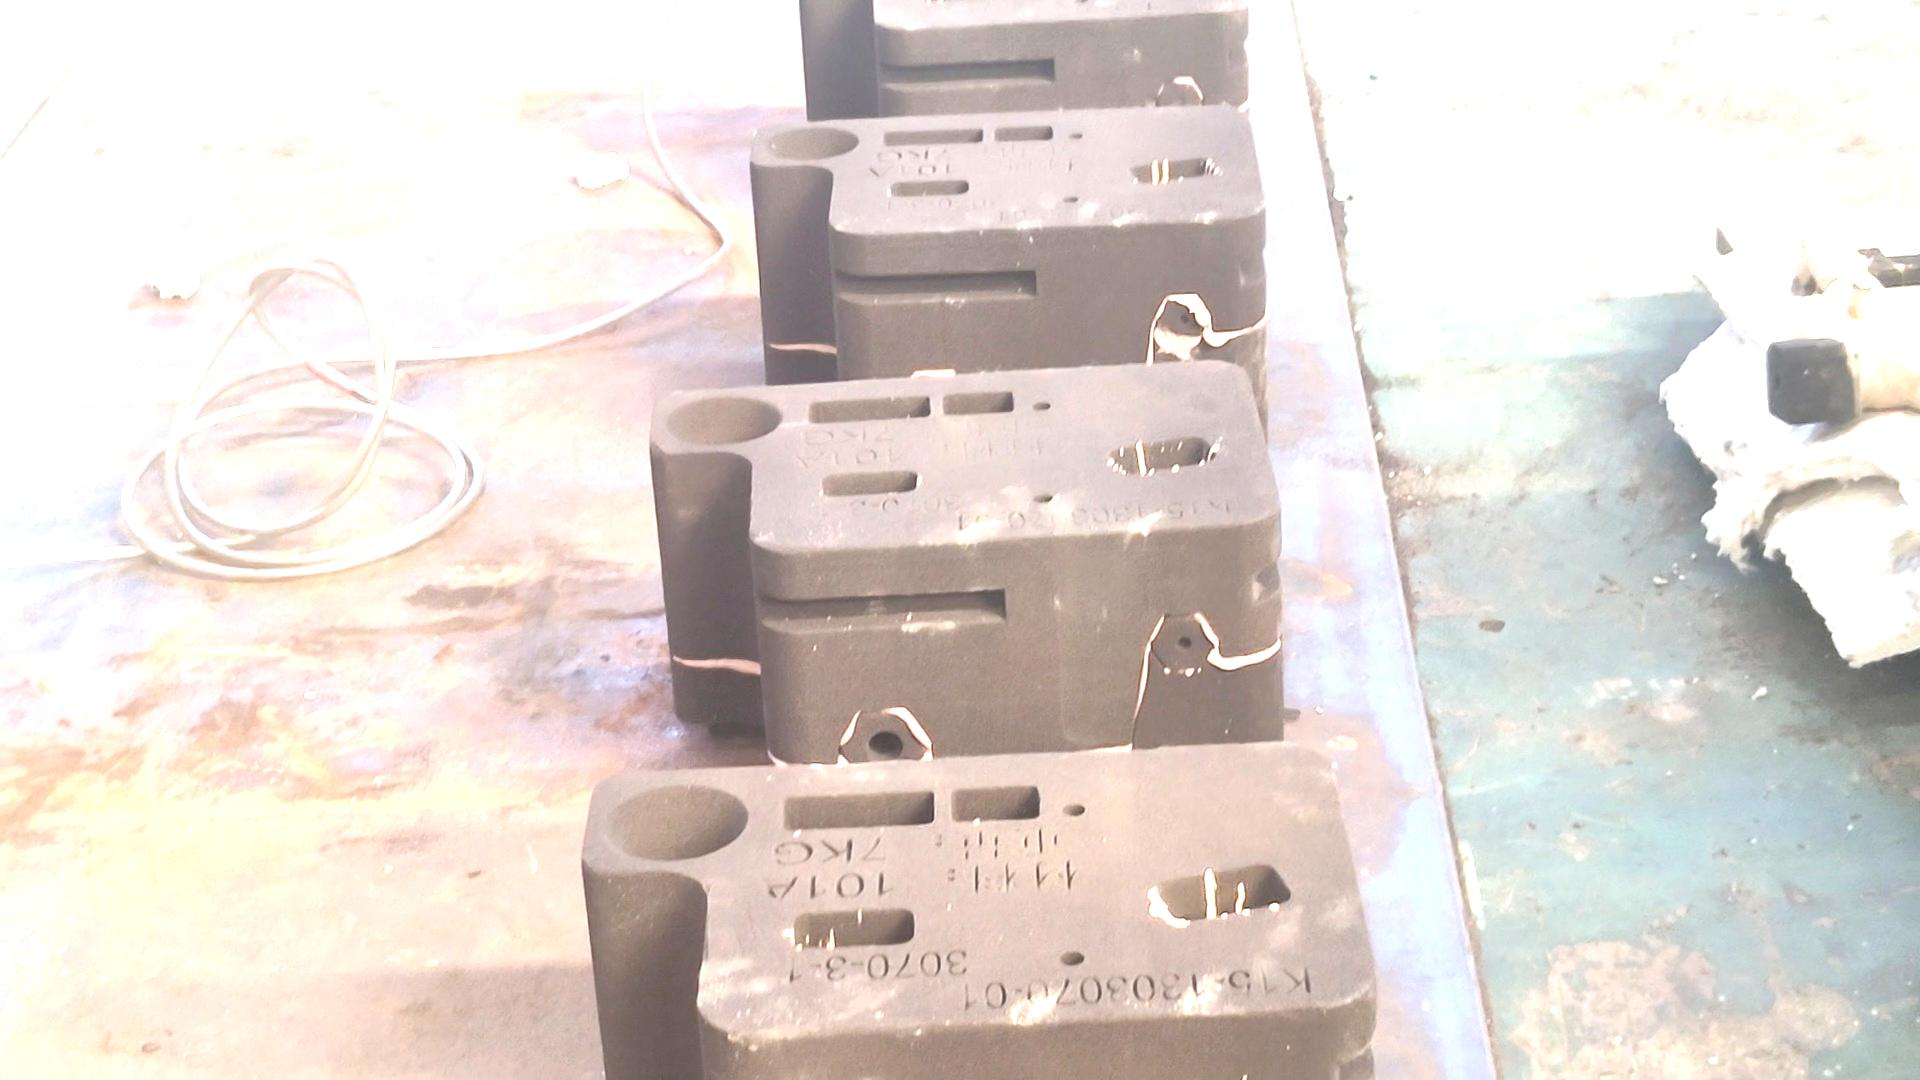pouring hole: (603, 785, 746, 861), (665, 393, 782, 447), (766, 127, 858, 161)
